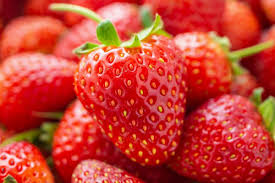Fresa: (70, 28, 202, 170), (158, 90, 275, 183)
